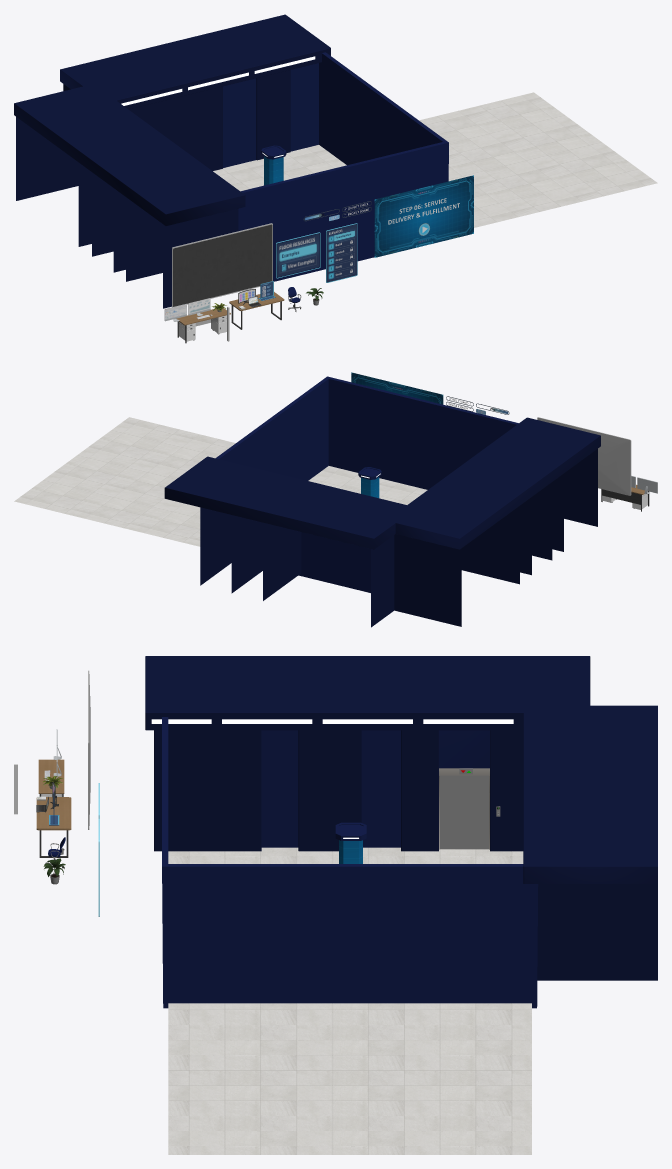
Rendered from RoomLobby_01.fbx.
3 renders of one model, top to bottom at view 1: azimuth 30°, elevation 25°; view 2: azimuth 150°, elevation 25°; view 3: azimuth 270°, elevation 25°, orthographic. The views are drawn at different scales.
Visible parts, largest first — view 1: Elevators_F004, Object001, Object002, Box018, Cons_003, Cons_004, TTScreen_005, TTScreen_004, OfficeTableOut001, Box019, Box014; view 2: Elevators_F004, Object001, Object002, Box018, Cons_003, Cons_004, OfficeTableOut001; view 3: Elevators_F004, Object002, Object001, Box018, Box019, OfficeTableOut001.
Boxes of the visible parts, <box> form: Elevators_F004: <box>14,14,330,308</box>; Object001: <box>238,52,448,281</box>; Object002: <box>419,92,657,227</box>; Box018: <box>213,63,346,191</box>; Cons_003: <box>172,223,272,307</box>; Cons_004: <box>374,175,473,257</box>; TTScreen_005: <box>326,223,357,282</box>; TTScreen_004: <box>276,232,320,278</box>; OfficeTableOut001: <box>176,308,230,343</box>; Box019: <box>229,292,284,329</box>; Box014: <box>264,156,283,185</box>; Elevators_F004: <box>164,417,600,627</box>; Object001: <box>215,376,518,489</box>; Object002: <box>14,417,235,546</box>; Box018: <box>298,466,427,592</box>; Cons_003: <box>537,417,631,495</box>; Cons_004: <box>351,372,443,404</box>; OfficeTableOut001: <box>601,484,649,511</box>; Elevators_F004: <box>145,656,657,980</box>; Object002: <box>168,1003,531,1154</box>; Object001: <box>162,717,538,1008</box>; Box018: <box>168,730,523,863</box>; Box019: <box>36,797,71,857</box>; OfficeTableOut001: <box>38,759,64,796</box>.
Bounding box in the file's own units: 29.66 × 5.33 × 21.26.
